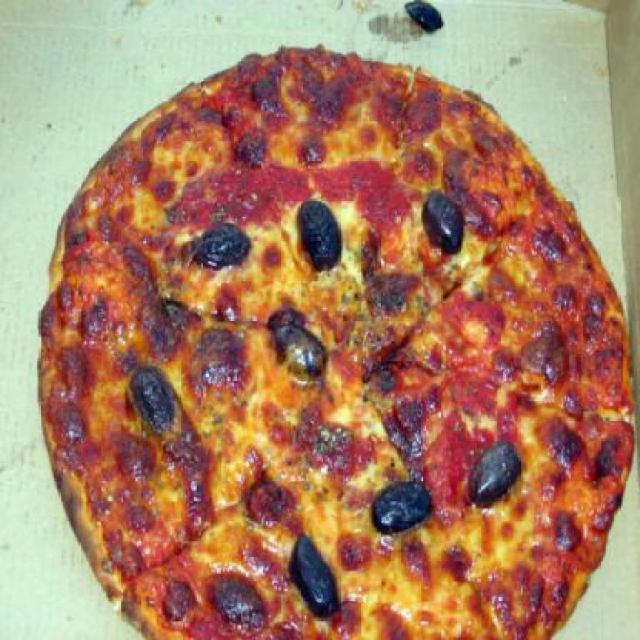Pizza: (44, 34, 638, 632)
